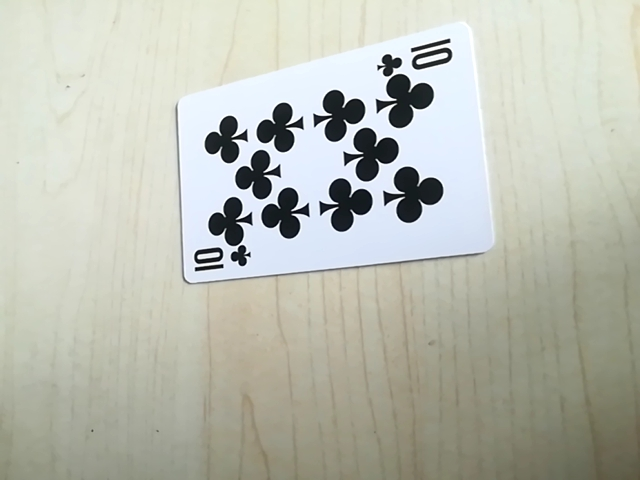mh 10: (376, 36, 460, 77), (189, 241, 255, 282)
